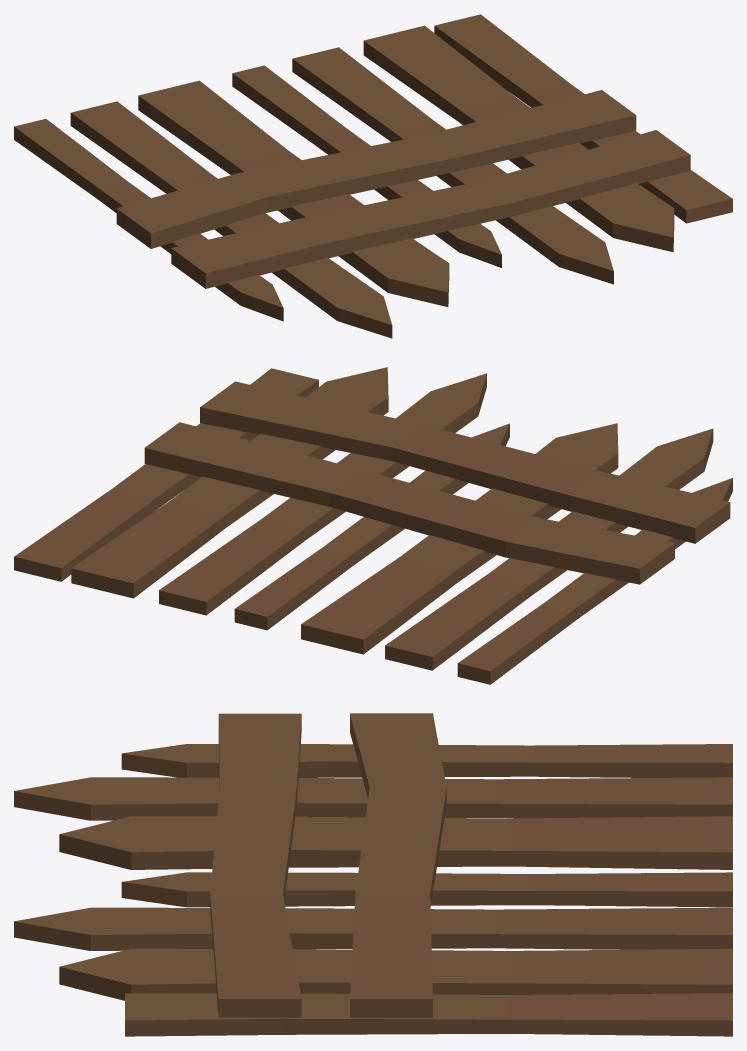
The model's file is Barrier_01_Right.fbx.
3 views of the same model, one above another, from view 1: azimuth 30°, elevation 25°; view 2: azimuth 150°, elevation 25°; view 3: azimuth 270°, elevation 25° (orthographic). The views are drawn at different scales.
Visible parts, largest first — view 1: barriere_1.bord droit; view 2: barriere_1.bord droit; view 3: barriere_1.bord droit.
Boxes of the visible parts, <box> form: barriere_1.bord droit: <box>14,14,732,338</box>; barriere_1.bord droit: <box>14,367,732,684</box>; barriere_1.bord droit: <box>14,713,732,1036</box>.
Size of the model in its own units: 99.71 by 5.78 by 105.
